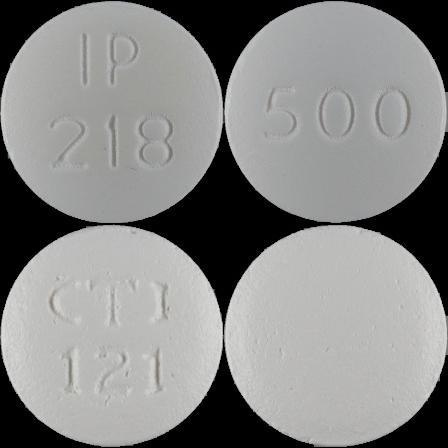63739-640: (0, 0, 224, 224)
